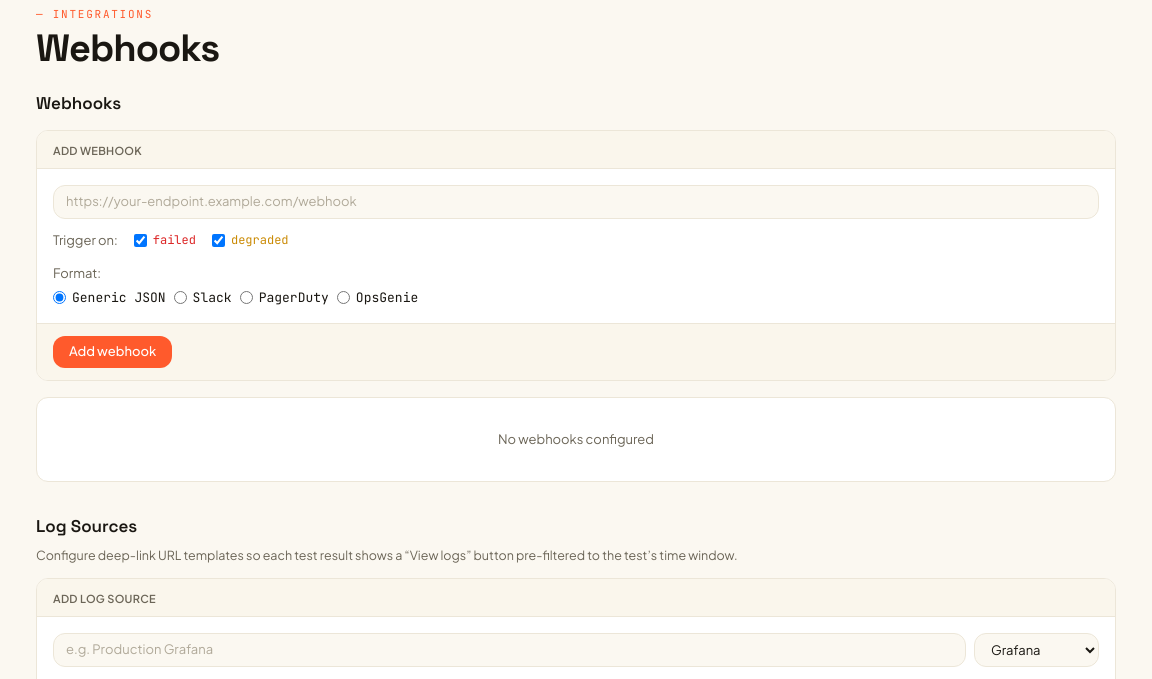
Scenario: WebhooksPage — log source create flow › shows an error message when createLogSource fails
This screenshot has width=1152, height=679.
In the field with placeholder "e.g. Production Grafana": (510, 650) x1=53 y1=633 x2=966 y2=667, type "My Grafana"
(page scrolled)
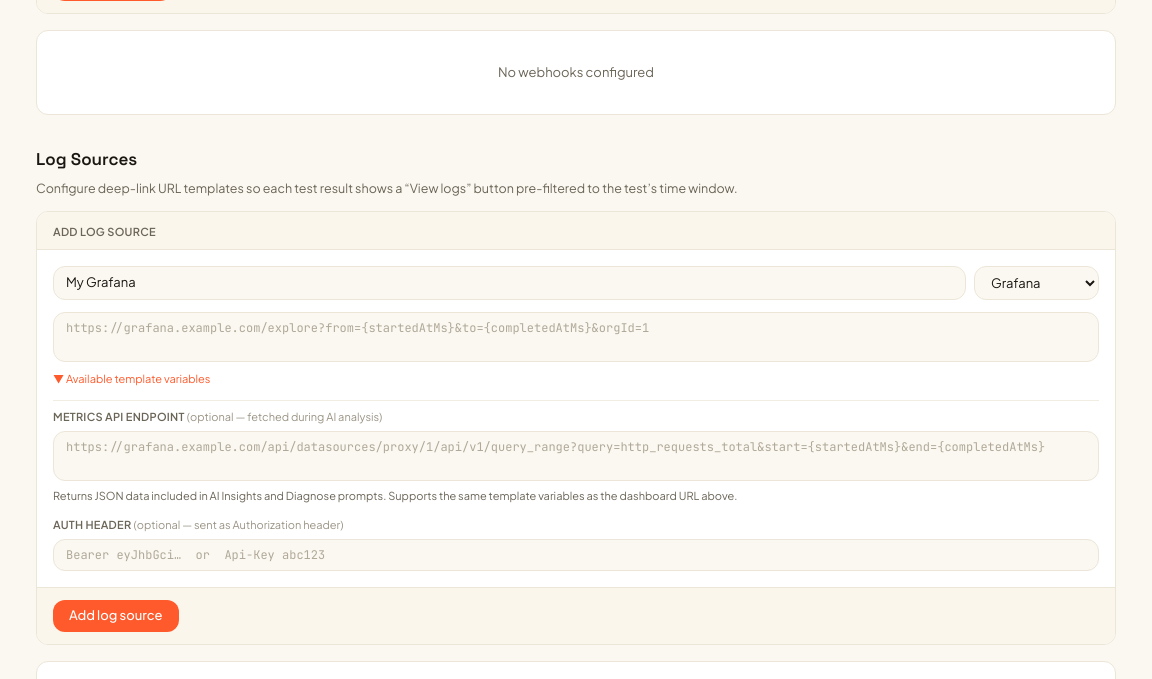
Replace the text in the text box with placeholder "grafana.example.com/explore" with "https://g.example.com": (576, 337) x1=53 y1=312 x2=1099 y2=362
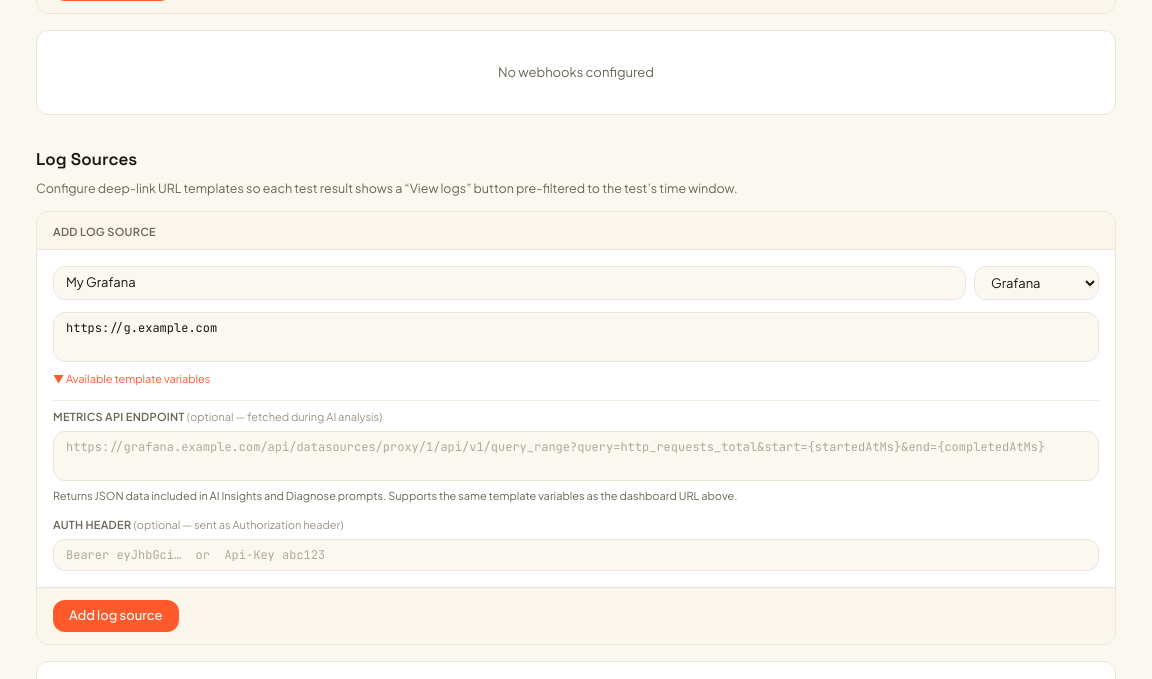
Click the button "Add log source": (116, 616) x1=53 y1=600 x2=179 y2=632
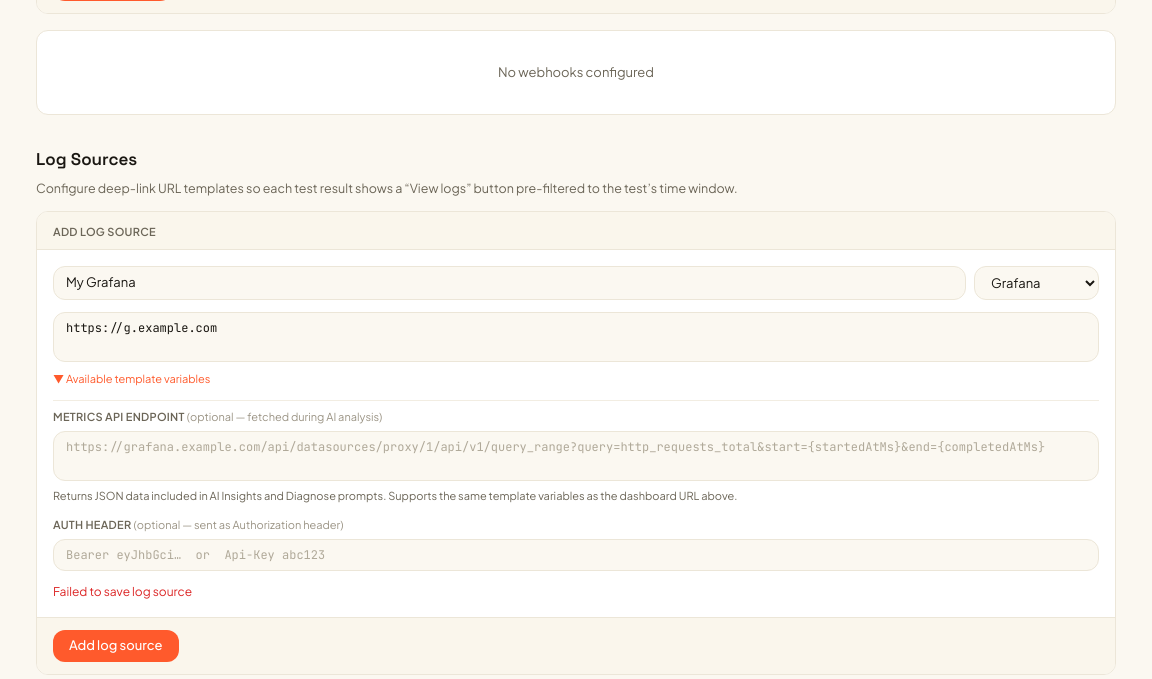
Check: the text "Failed to save log source" is shown, box x1=53 y1=584 x2=192 y2=599
